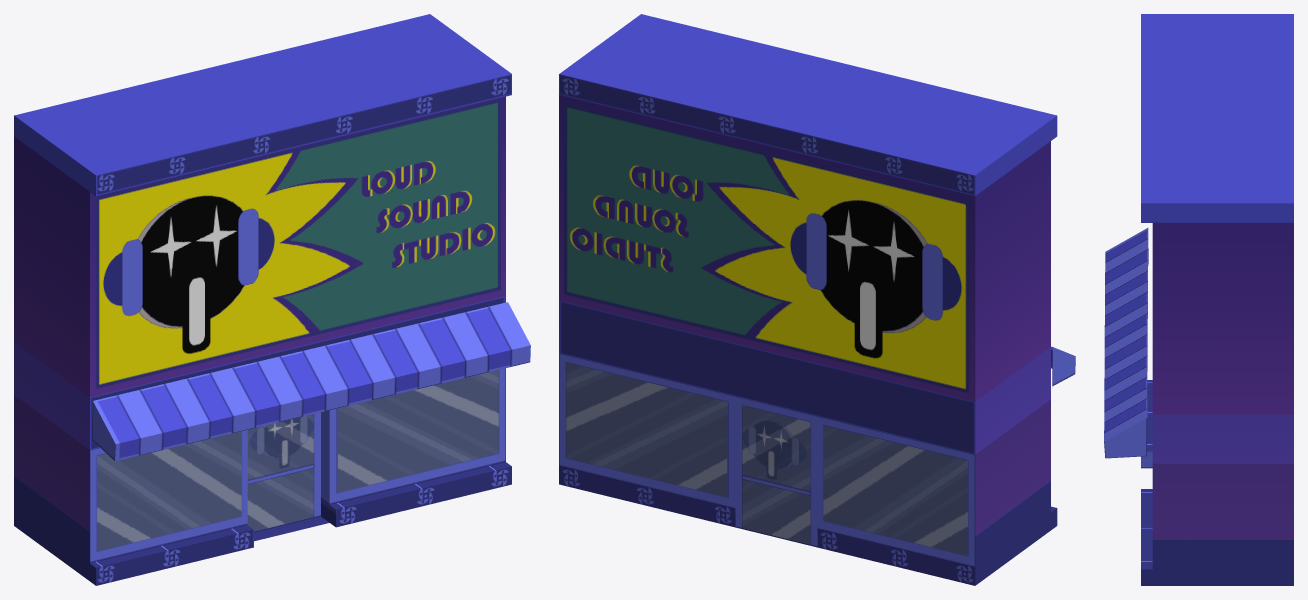
File: building.fbx
3 views of the same model, side by side, from view 1: azimuth 30°, elevation 25°; view 2: azimuth 150°, elevation 25°; view 3: azimuth 270°, elevation 25° (orthographic). The views are drawn at different scales.
Parts seen in each view (by area): view 1: polySurface17; view 2: polySurface17; view 3: polySurface17.
Part boxes in pixels (x1,y1,x2,y2): polySurface17: (14,14,530,585); polySurface17: (559,14,1075,585); polySurface17: (1104,14,1293,585).
Bounding box in the file's own units: 6.49 × 6.12 × 2.75.
Materials: 2 (2 with a texture image).
